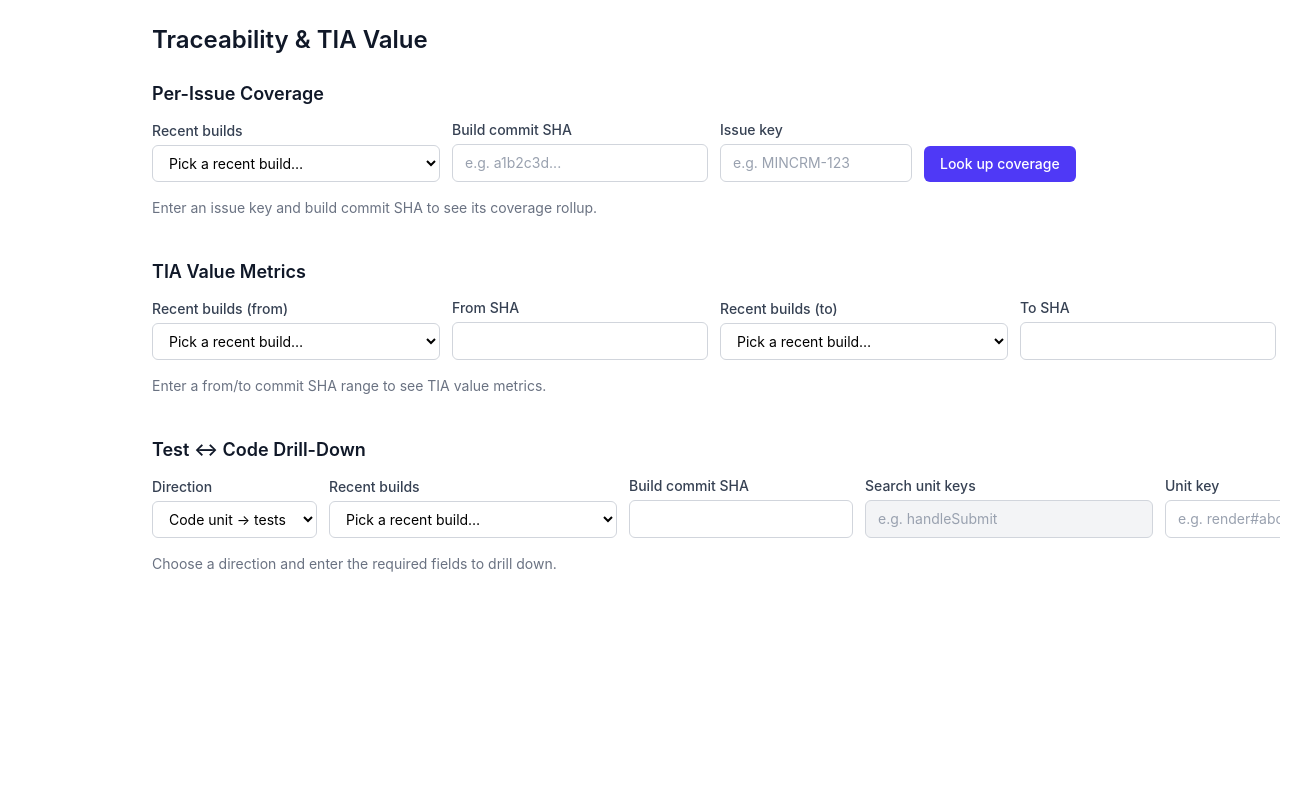
it: TraceabilityPage — issue coverage › renders stat tiles on a successful lookup
Type "MINCRM-1" into the field with test id "issue-key-input". click: (816, 163)
box: [720, 144, 912, 182]
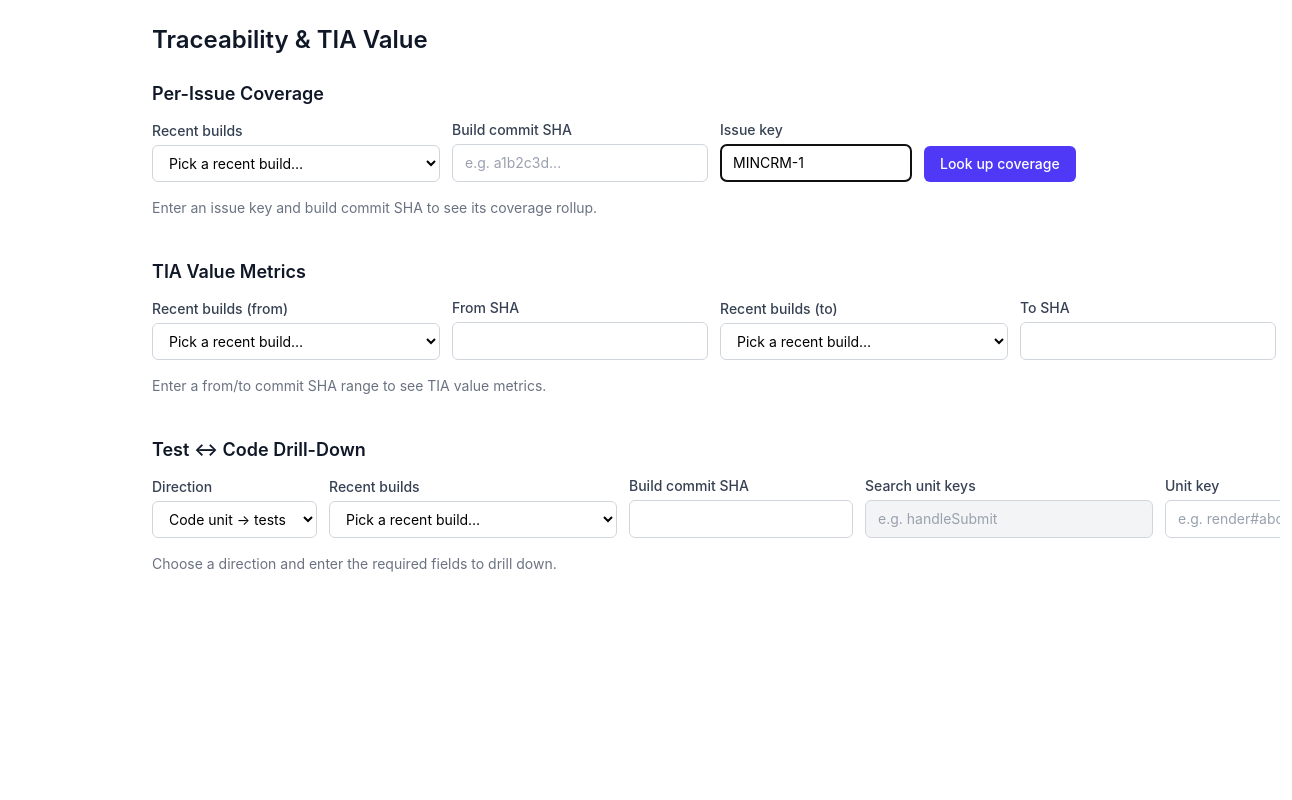
Type "abc123" into the field with test id "issue-commit-sha-input". click: (580, 163)
box: [452, 144, 708, 182]
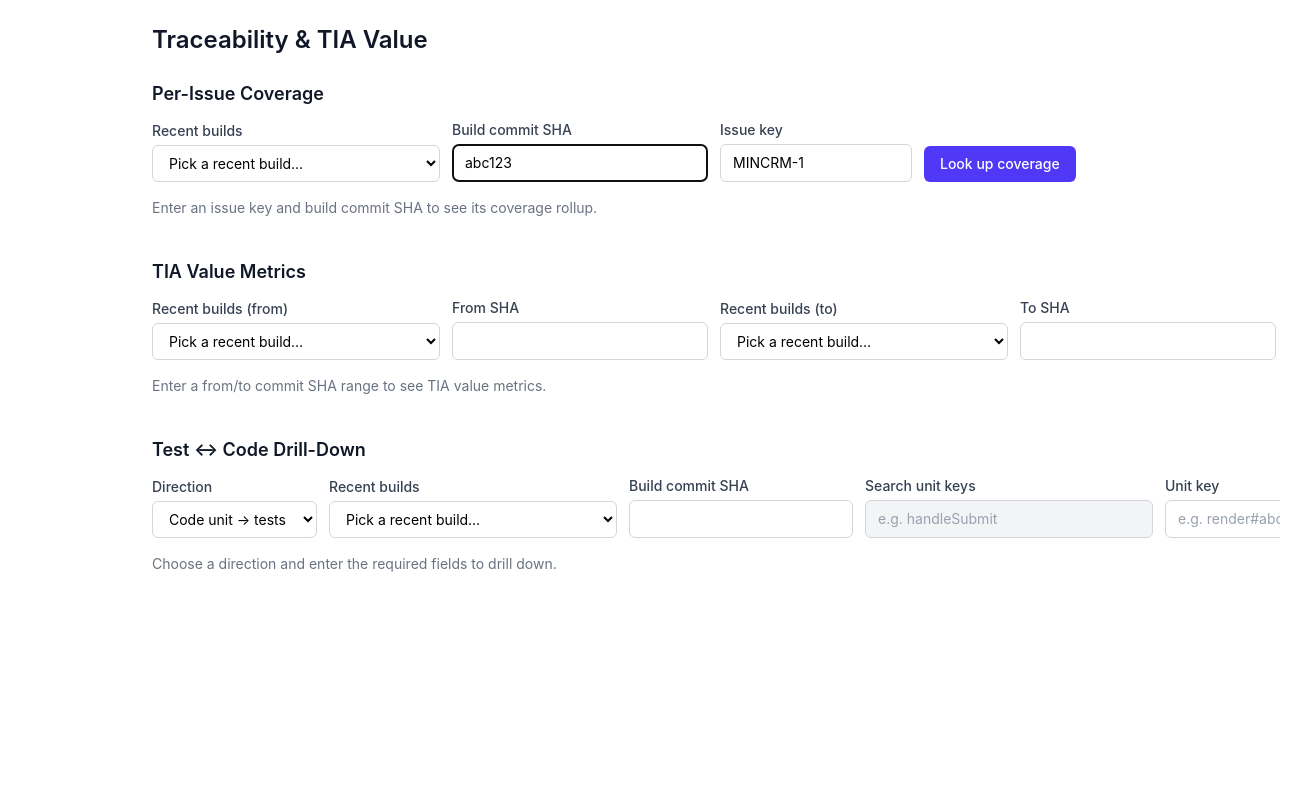
Click the button with test id "issue-coverage-submit-button". click: click(1000, 164)
box: [924, 146, 1076, 182]
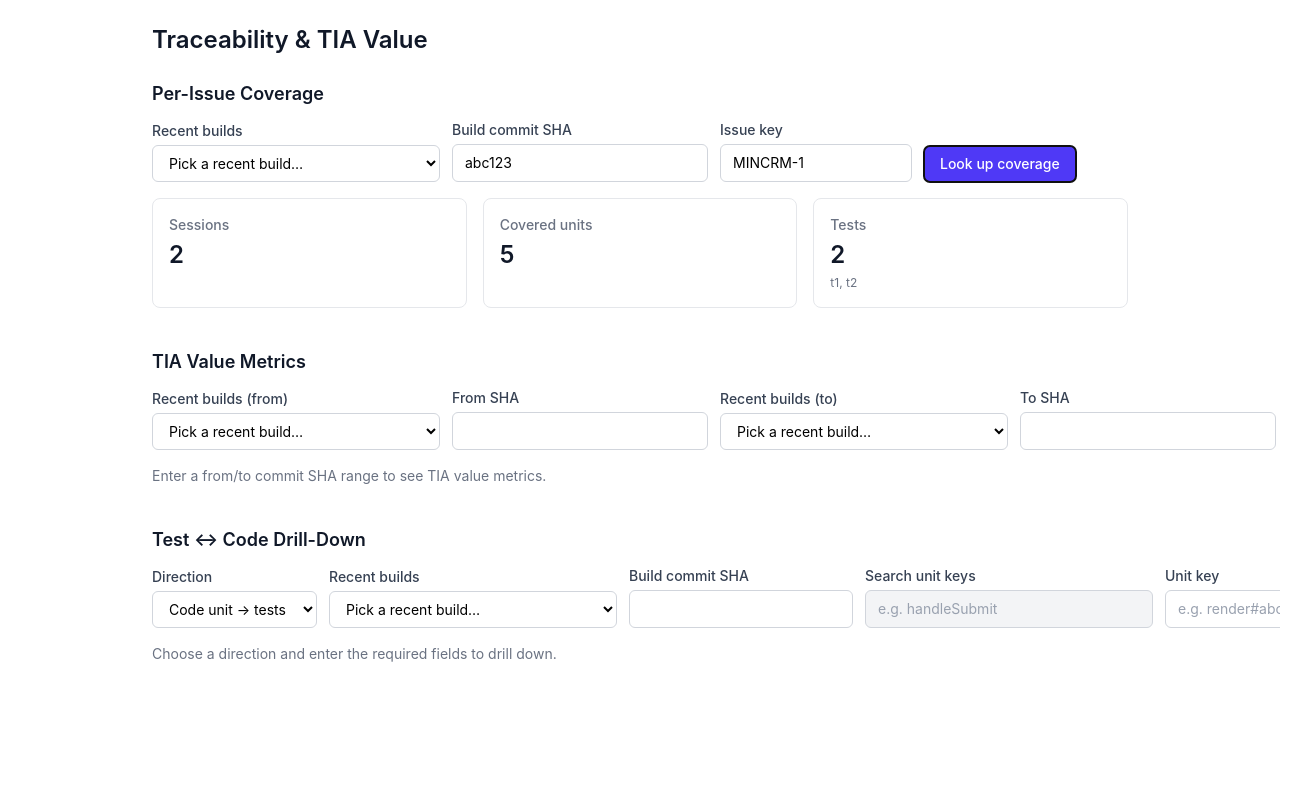
Check: the element with test id "issue-coverage-stat-tiles" is shown, box [152, 198, 1128, 308]
Check: the element with test id "stat-tile-issue-sessions" shows "2", box [169, 240, 184, 269]
Check: the element with test id "stat-tile-issue-covered-units" shows "5", box [500, 240, 514, 269]
